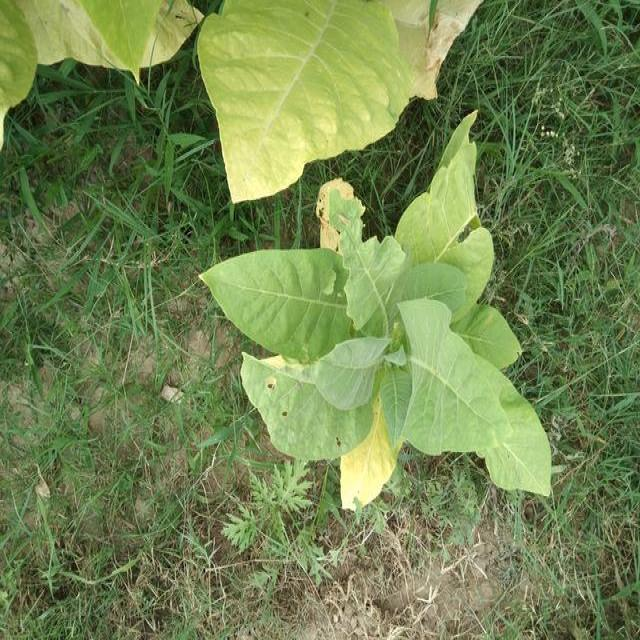crop: (196, 116, 570, 515)
